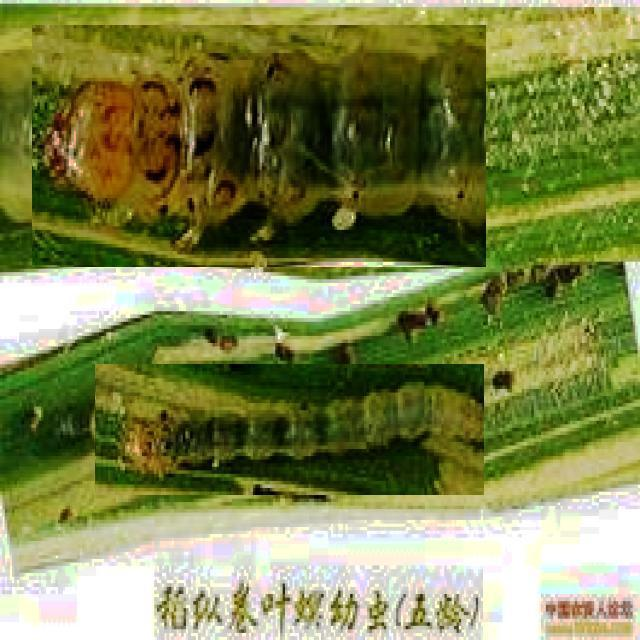leaf-folder: (33, 25, 487, 267), (95, 364, 484, 495)
